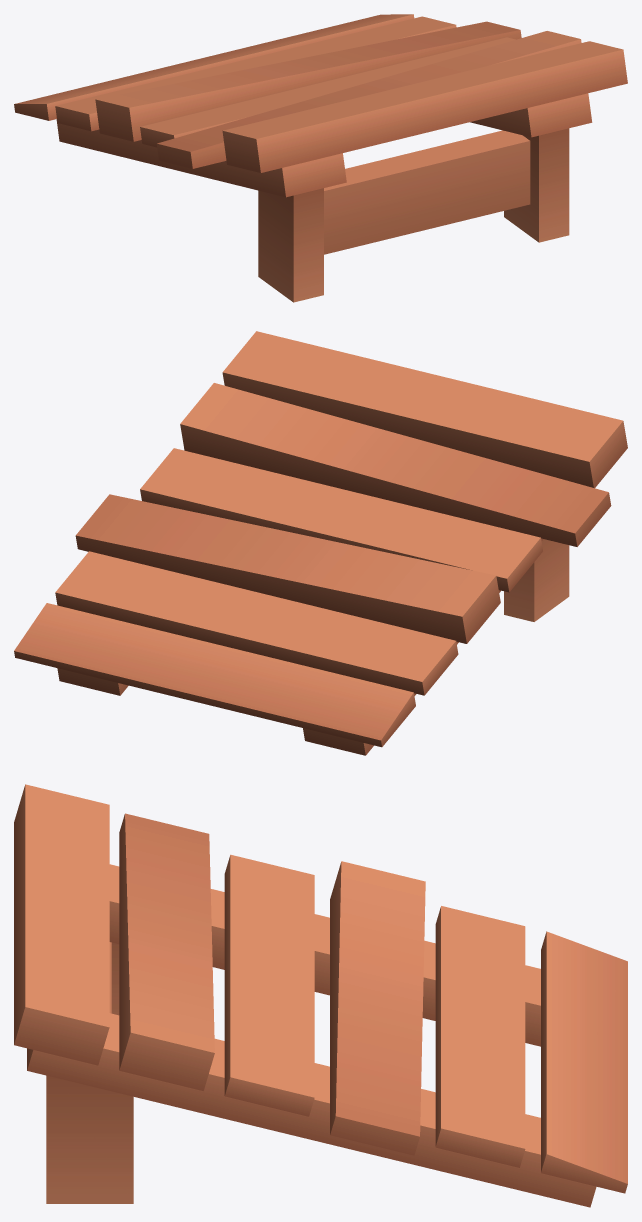
Rendered from ramp.glb.
The picture shows the model from 3 angles, top to bottom: view 1: azimuth 30°, elevation 25°; view 2: azimuth 150°, elevation 25°; view 3: azimuth 270°, elevation 25°; orthographic projection. The views are drawn at different scales.
Parts seen in each view (by area): view 1: ramp; view 2: ramp; view 3: ramp.
Boxes of the visible parts, x1=… form: ramp: x1=14, y1=14, x2=627, y2=302; ramp: x1=14, y1=331, x2=627, y2=755; ramp: x1=14, y1=784, x2=627, y2=1207.
Size of the model in its own units: 2.73 by 1.14 by 2.81.
1 material, 1 textured.
